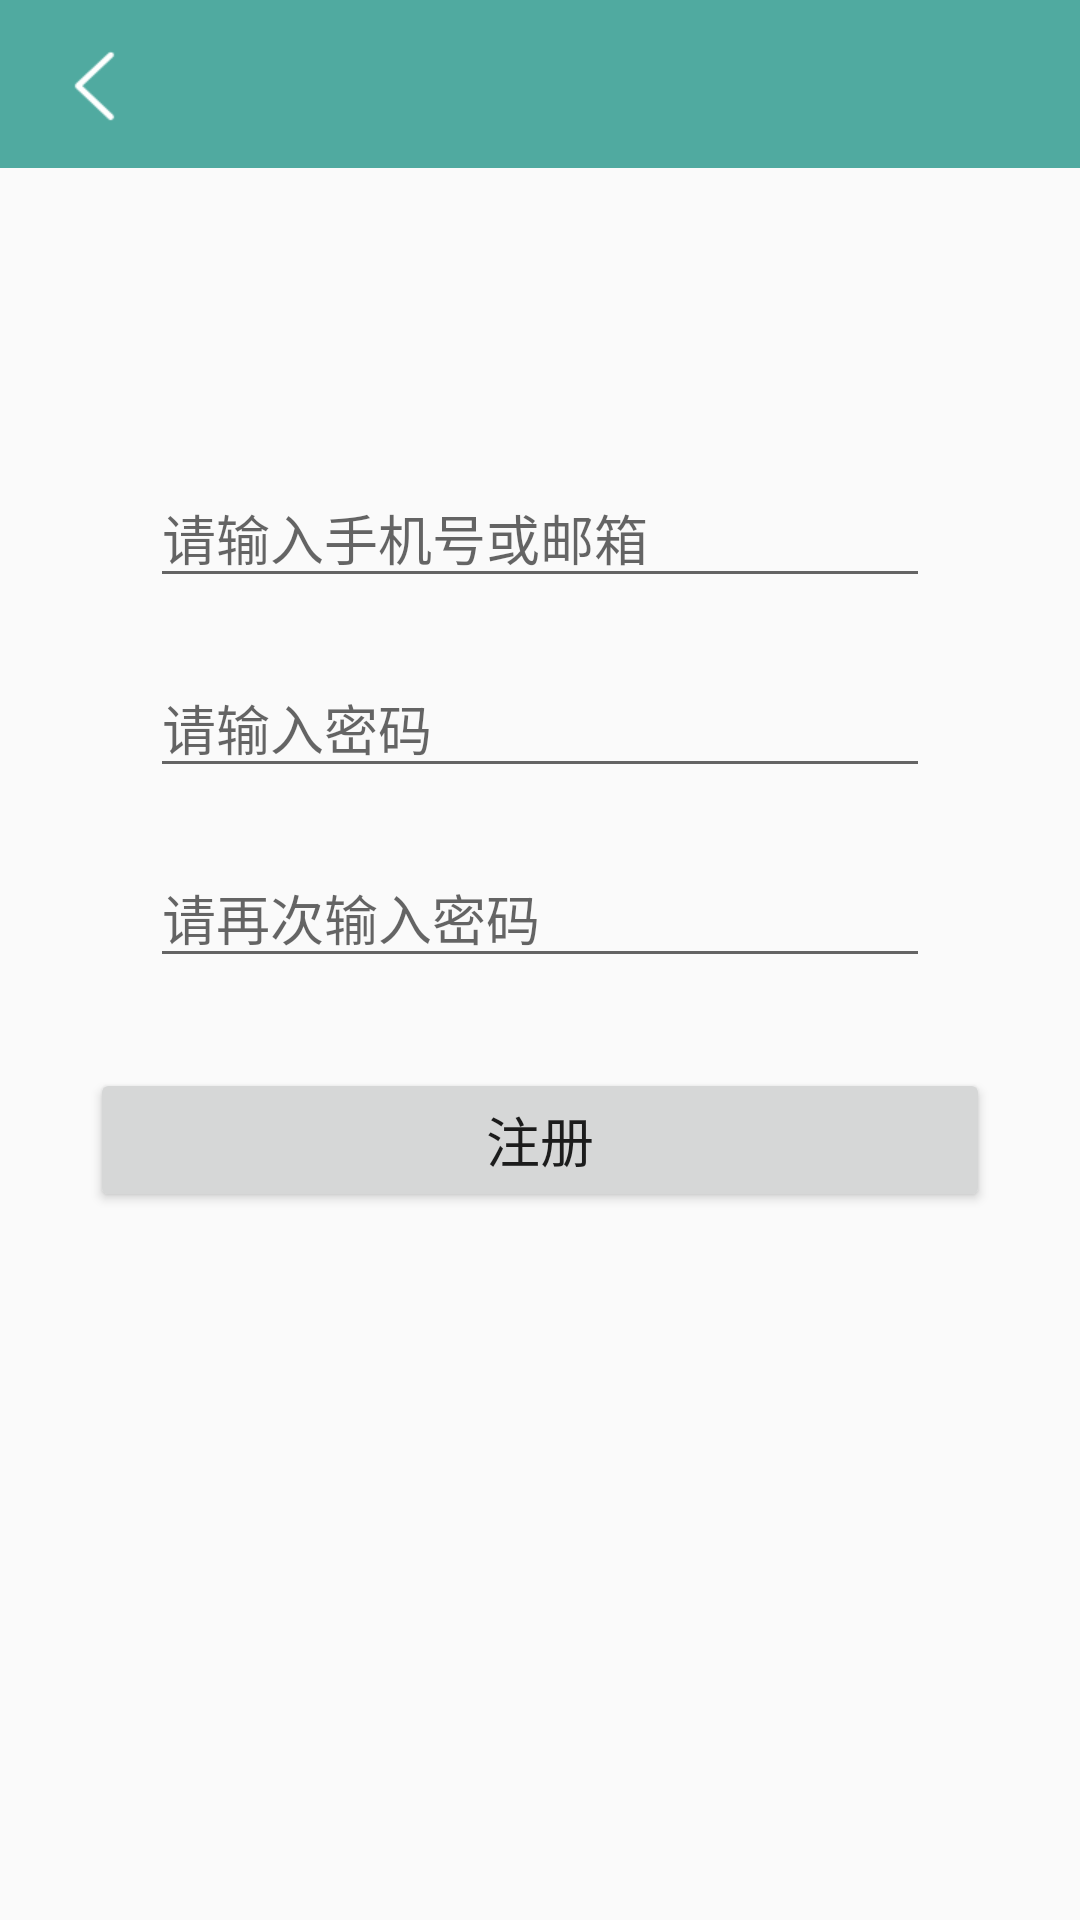

Where to tap for icons on this 1080*1920 app screen, as [x,y]:
back: [94,86]
